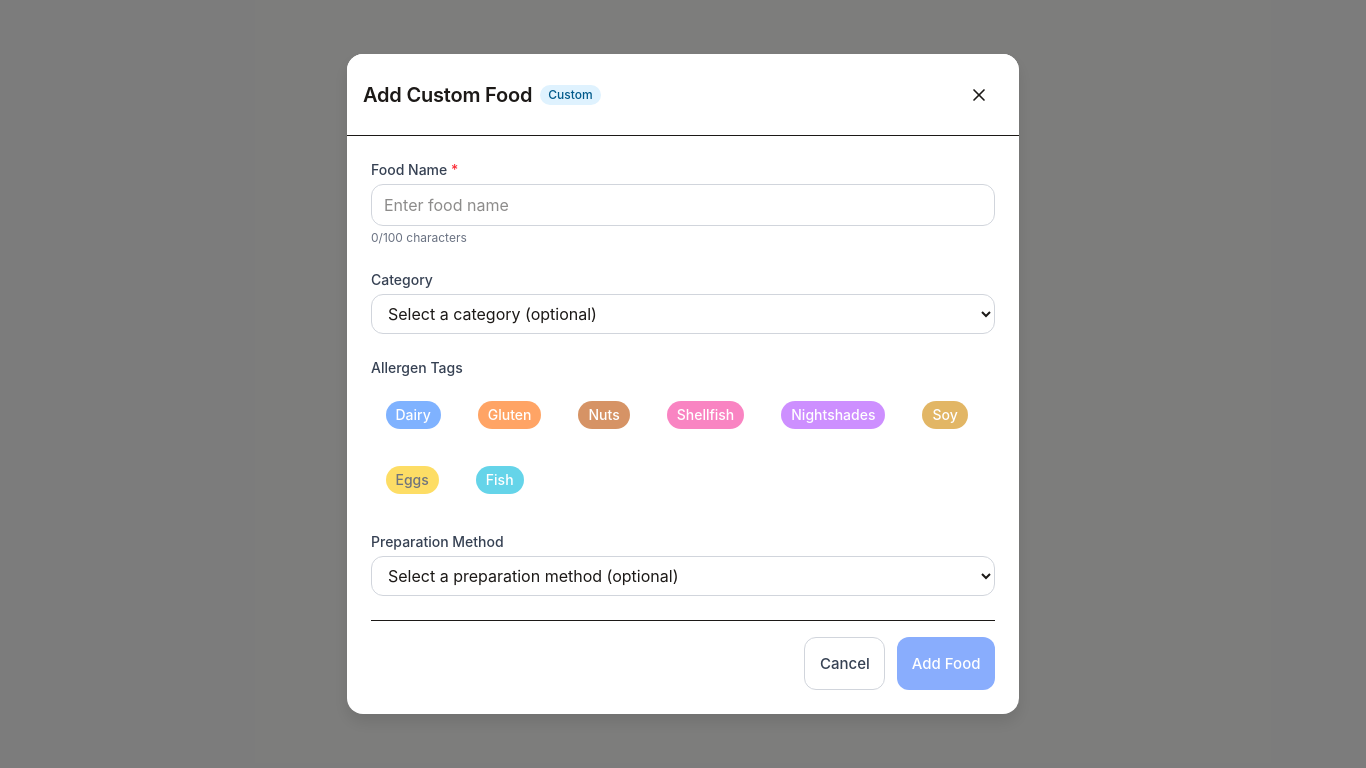
Test: AddFoodModal › Allergen Selection › allows deselecting allergens
This screenshot has width=1366, height=768.
Click the button with aria-label "select dairy allergen" at (413, 415), box [371, 386, 455, 443]
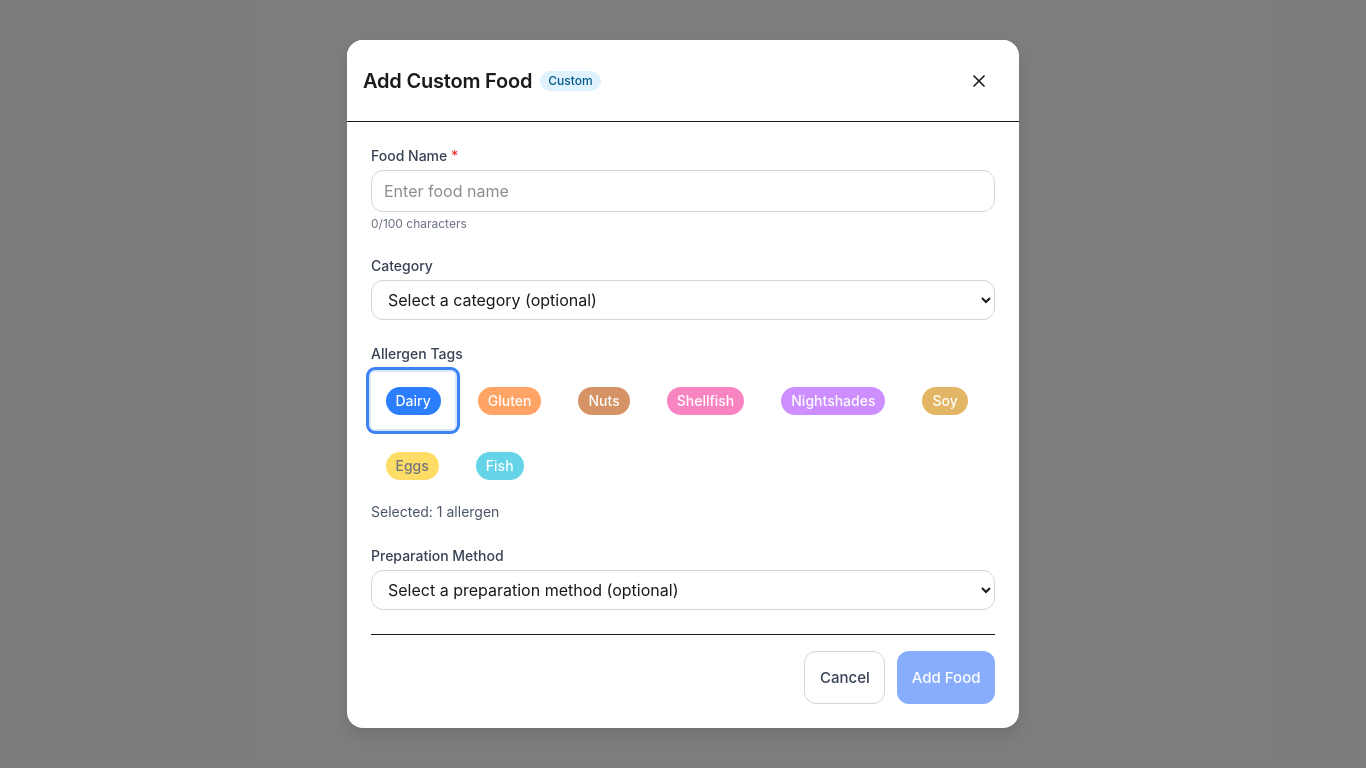
Expected: the button with aria-label "select dairy allergen" is pressed
Click the button with aria-label "select dairy allergen" at (413, 401), box [371, 372, 455, 429]
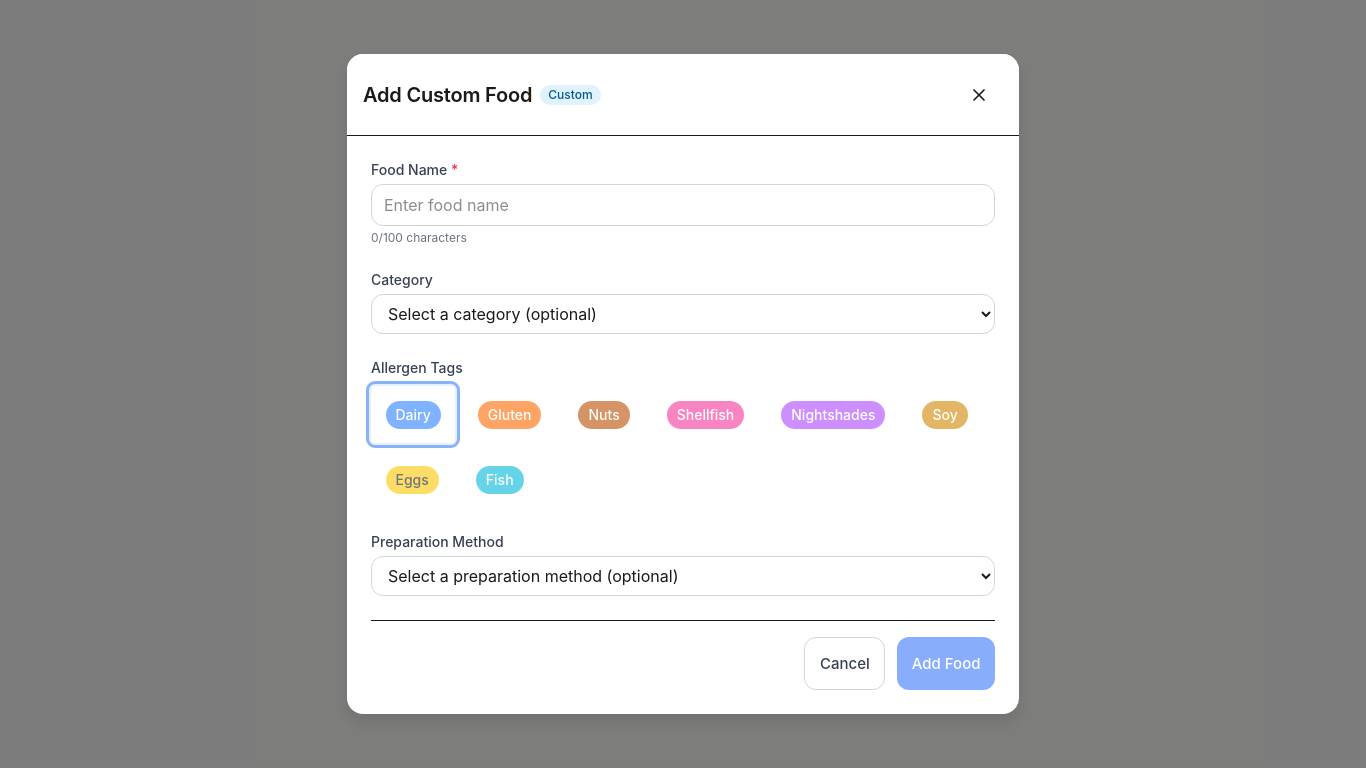
Expected: the text "Selected:" is gone
